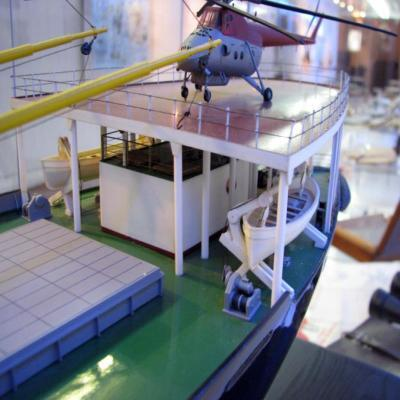other: (0, 27, 350, 400)
